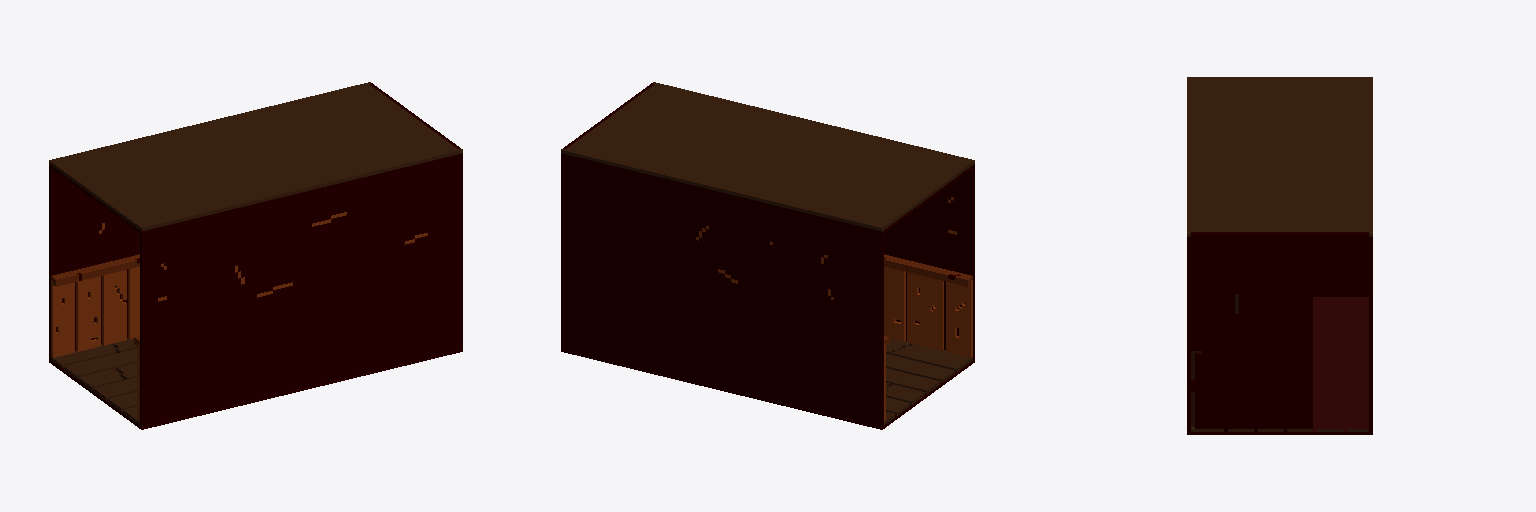
3 renders of one model, left to right at view 1: azimuth 30°, elevation 25°; view 2: azimuth 150°, elevation 25°; view 3: azimuth 270°, elevation 25°, orthographic.
Visible parts, largest first — view 1: object 1; view 2: object 1; view 3: object 1.
Part boxes in pixels (x1,y1,x2,y2): object 1: (49,82,462,429); object 1: (561,82,974,429); object 1: (1187,77,1372,434).
Bounding box in the file's own units: 10 × 6 × 5.
1 materials, 1 textured.